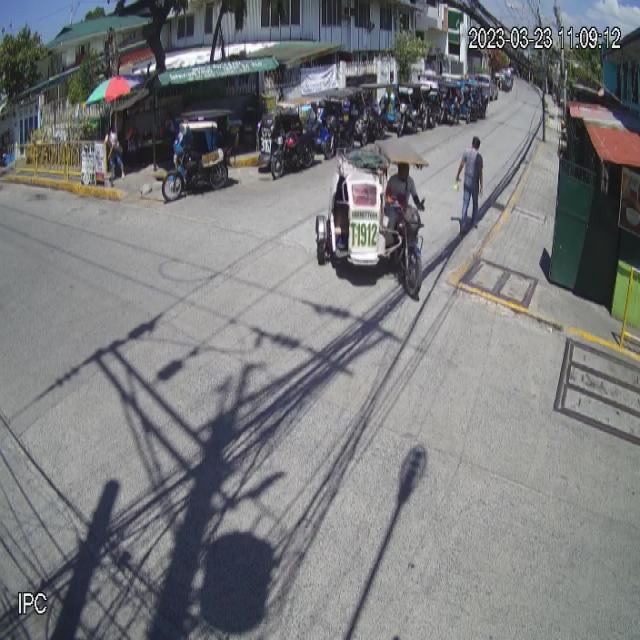Tricycle: (316, 137, 429, 299)
